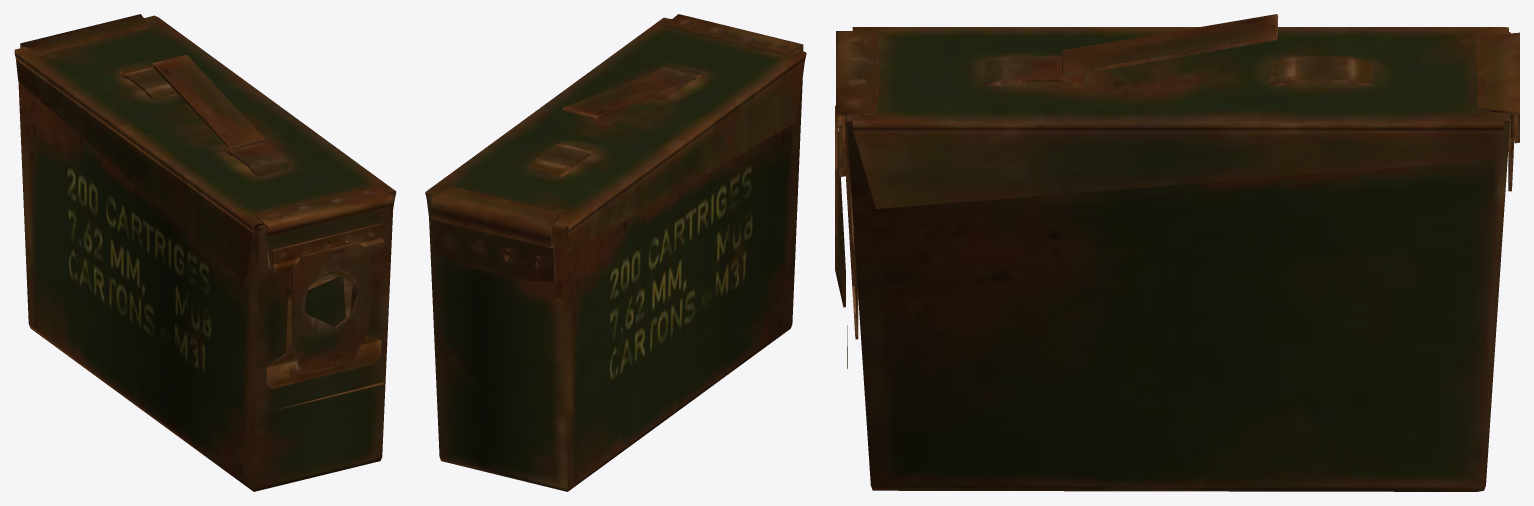
Rendered from ammo_box.glb.
3 renders of one model, left to right at view 1: azimuth 30°, elevation 25°; view 2: azimuth 150°, elevation 25°; view 3: azimuth 270°, elevation 25°, orthographic. The views are drawn at different scales.
Visible parts, largest first — view 1: ammo_box_handle_ring_b; view 2: ammo_box_handle_ring_b; view 3: ammo_box_handle_ring_b.
Part boxes in pixels (x1,y1,x2,y2): ammo_box_handle_ring_b: (14, 14, 396, 491); ammo_box_handle_ring_b: (425, 14, 806, 491); ammo_box_handle_ring_b: (835, 14, 1519, 491).
Size of the model in its own units: 0.0855 by 0.1757 by 0.2576.
1 material, 1 textured.
